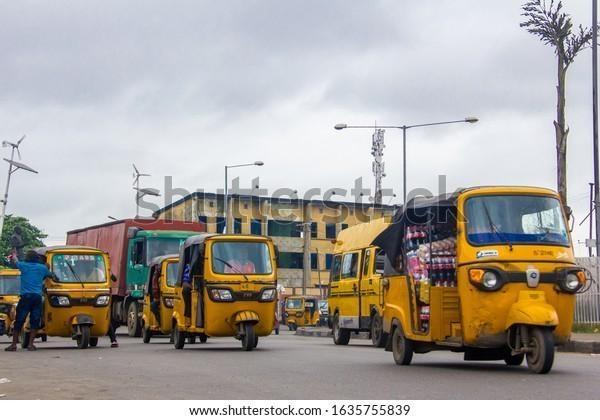keke: (376, 182, 588, 388), (174, 230, 282, 350), (27, 242, 121, 348), (144, 252, 185, 343)
